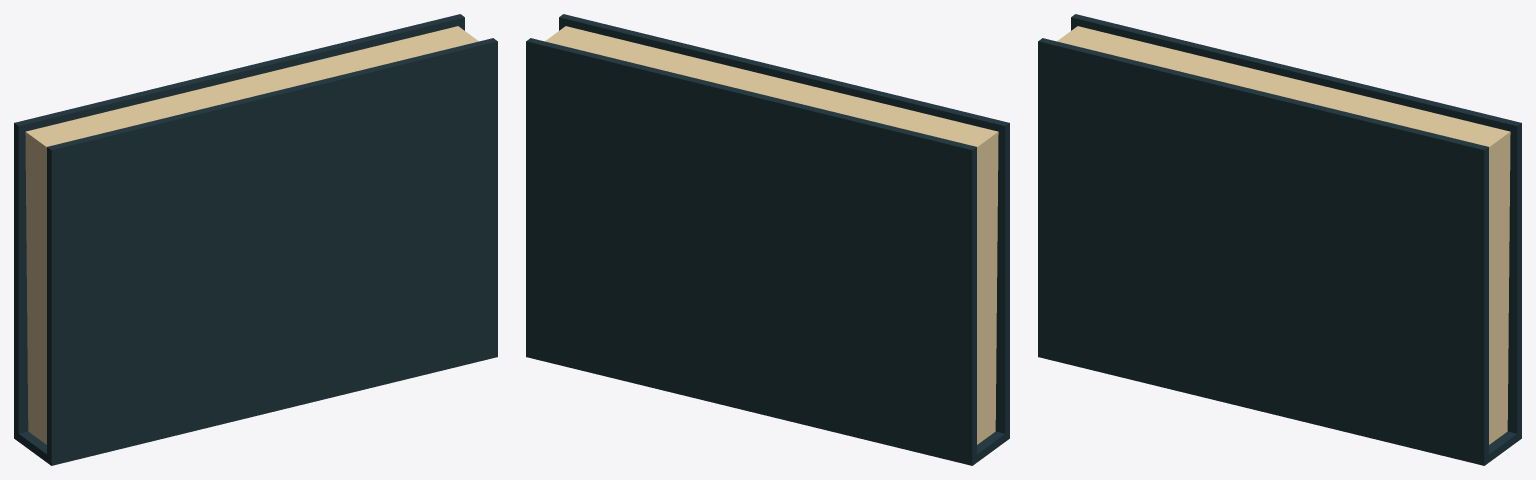
Rendered from libro.fbx.
3 views of the same model, side by side, from view 1: azimuth 30°, elevation 25°; view 2: azimuth 150°, elevation 25°; view 3: azimuth 330°, elevation 25° (orthographic).
Visible parts, largest first — view 1: Prop_Book_03; view 2: Prop_Book_03; view 3: Prop_Book_03.
Boxes of the visible parts, left/top/right/bottom form: Prop_Book_03: left=14, top=14, right=497, bottom=465; Prop_Book_03: left=526, top=14, right=1009, bottom=465; Prop_Book_03: left=1038, top=14, right=1521, bottom=465.
Bounding box in the file's own units: 25.89 × 17.5 × 3.75.
